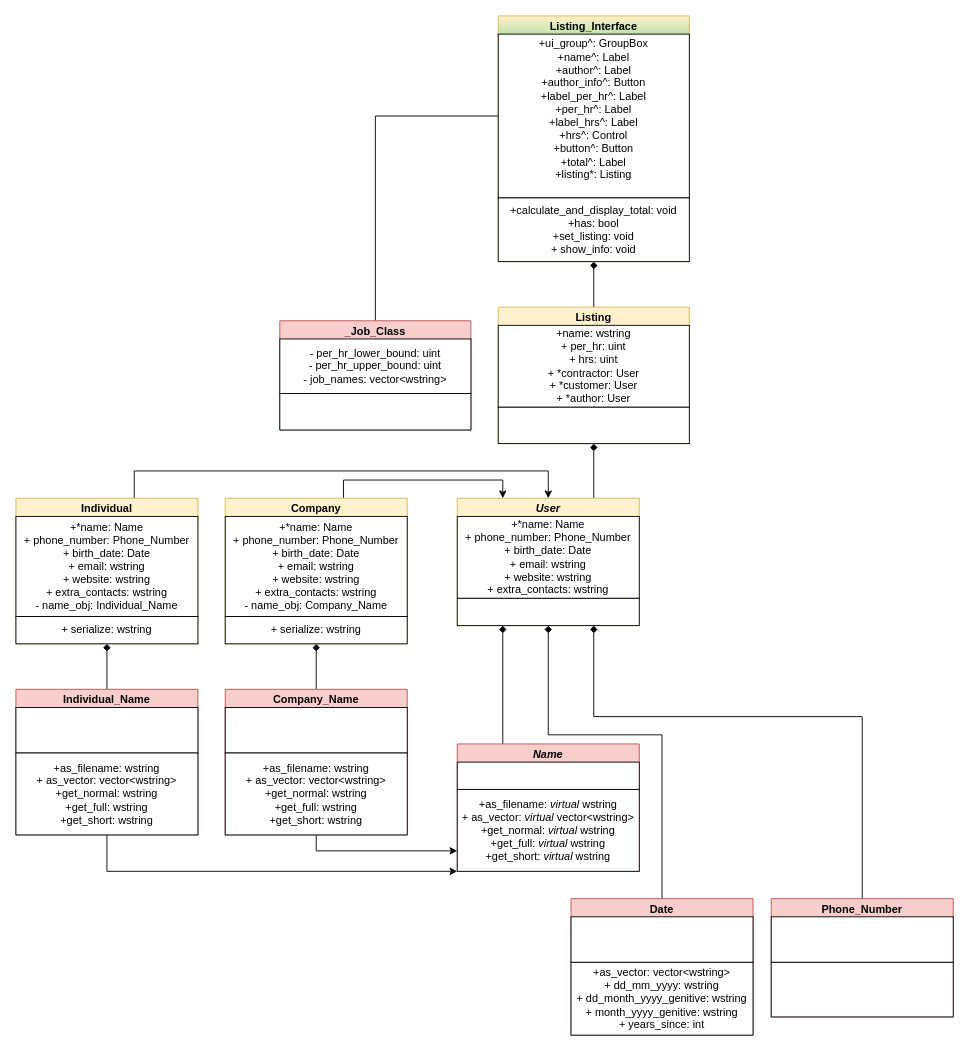
This 969x1051 diagram has some shape labels left out. The centre of each missing label's shape, as x and y in pixels:
#name: wstring: point 547,775
+ serialize: virtual wstring: point 547,611
+as_text: wstring + conceal: wstring + serialize: wstring: point 861,989
+payment_total: uint +serialize: wstring: point 593,425
+random_job_name: wstring +random_per_hr: uint: point 375,411
- name: wstring -legal_form: wstring: point 315,730
- name: wstring -surname: wstring -patronym: wstring: point 106,730
-country_code: wstring -carrier_code: wstring -body: wstring: point 861,939
-day: uint - month: uint - year: uint: point 661,939
